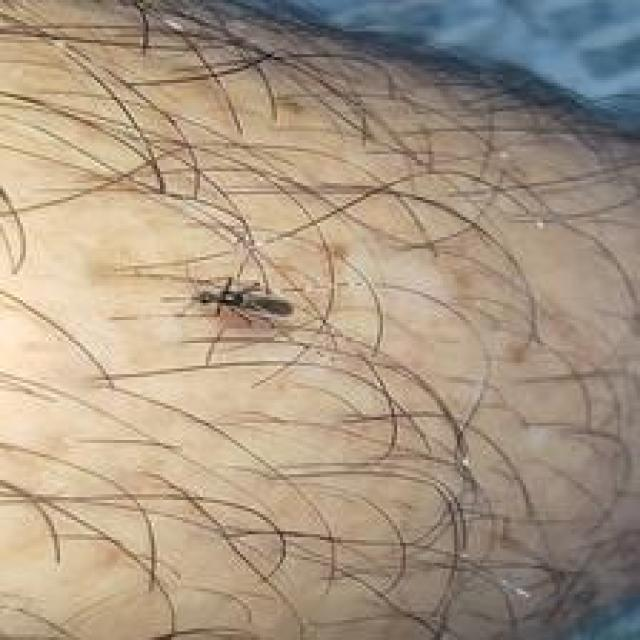Aedes albopictus: (192, 276, 294, 327)
